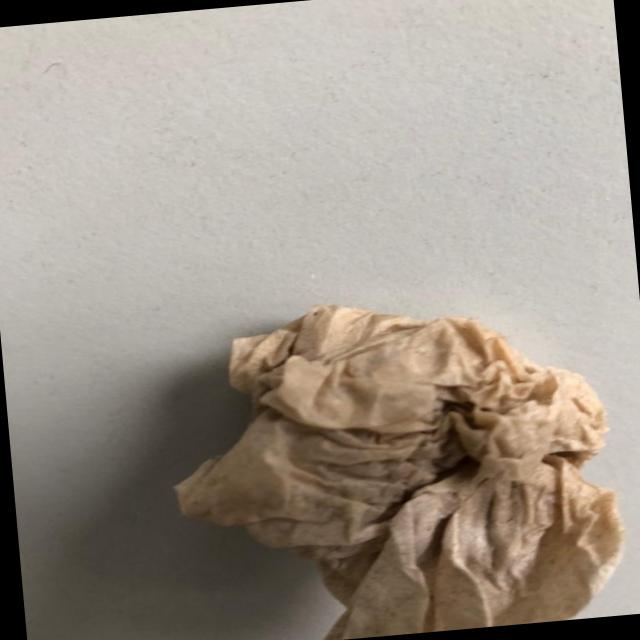organic waste: (152, 277, 620, 640)
